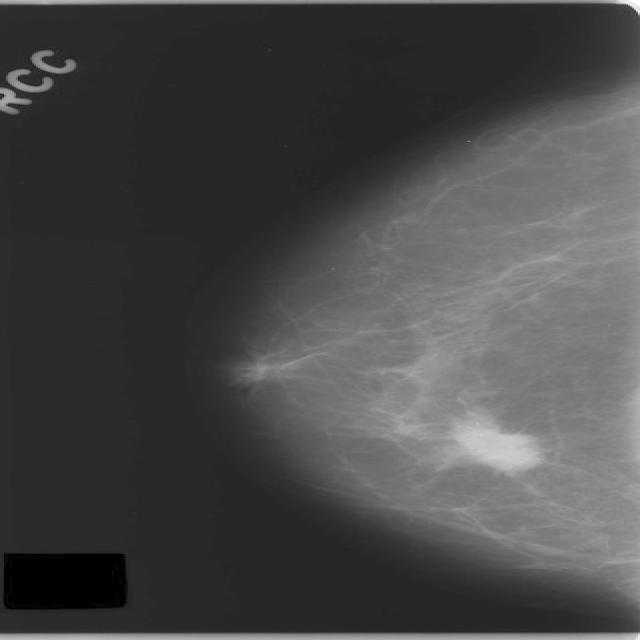tumour: (445, 414, 540, 473)
